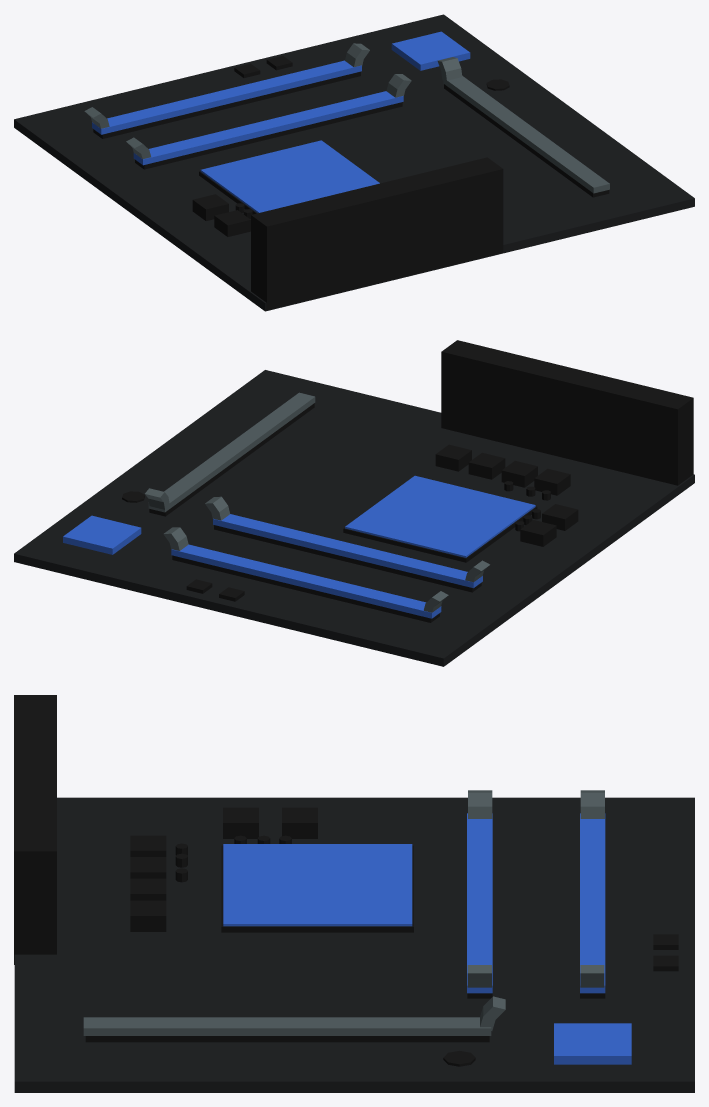
Rendered from lga1700_motherboard.fbx.
3 views of the same model, one above another, from view 1: azimuth 30°, elevation 25°; view 2: azimuth 150°, elevation 25°; view 3: azimuth 270°, elevation 25° (orthographic). The views are drawn at different scales.
Parts seen in each view (by area): view 1: Cube; view 2: Cube; view 3: Cube, left_up, right_up.
Boxes of the visible parts, bbox=[...] form: Cube: bbox=[14, 14, 694, 311]; Cube: bbox=[14, 340, 694, 666]; Cube: bbox=[14, 695, 694, 1092]; left_up: bbox=[468, 790, 492, 818]; right_up: bbox=[580, 790, 604, 818].
Size of the model in its own units: 170 by 32.1 by 173.
